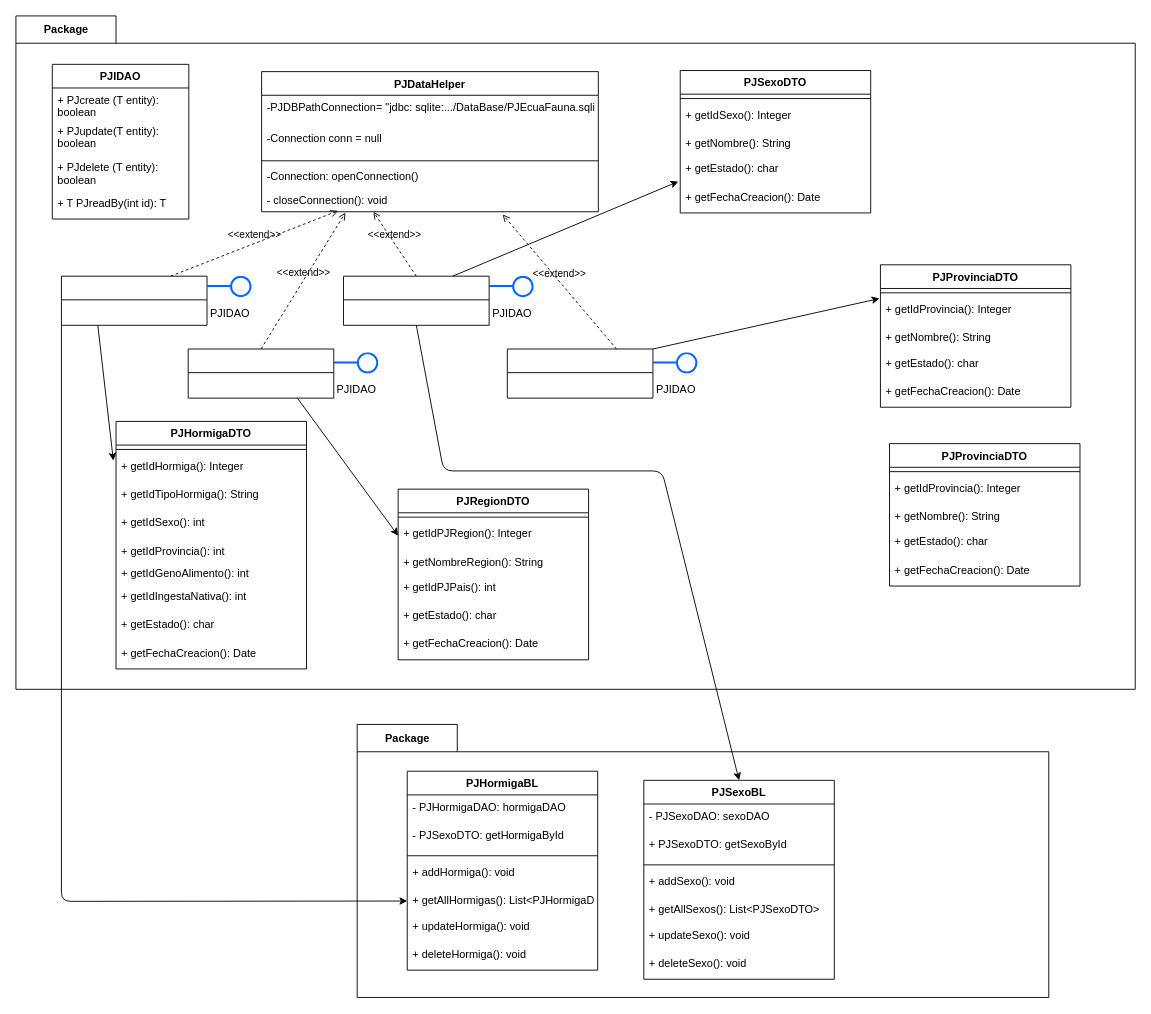
The diagram is 1151 pixels wide and 1014 high, and some of its shapes have lost their labels. Here are the shapes that lost their labels. From the top down, the centre of each, then its label:
At point (134, 300): "PJHormigasDAO".
At point (416, 300): "PJSexoDAO".
At point (260, 373): "PJRegionDAO".
At point (579, 373): "PJProvinciaDAO".
